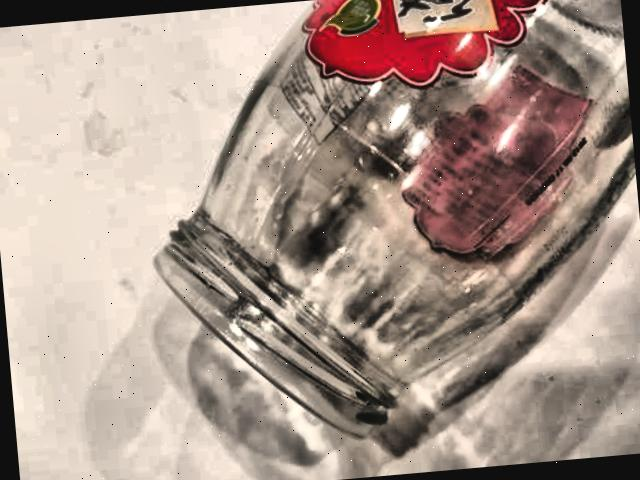Almennt: (97, 0, 640, 470)
